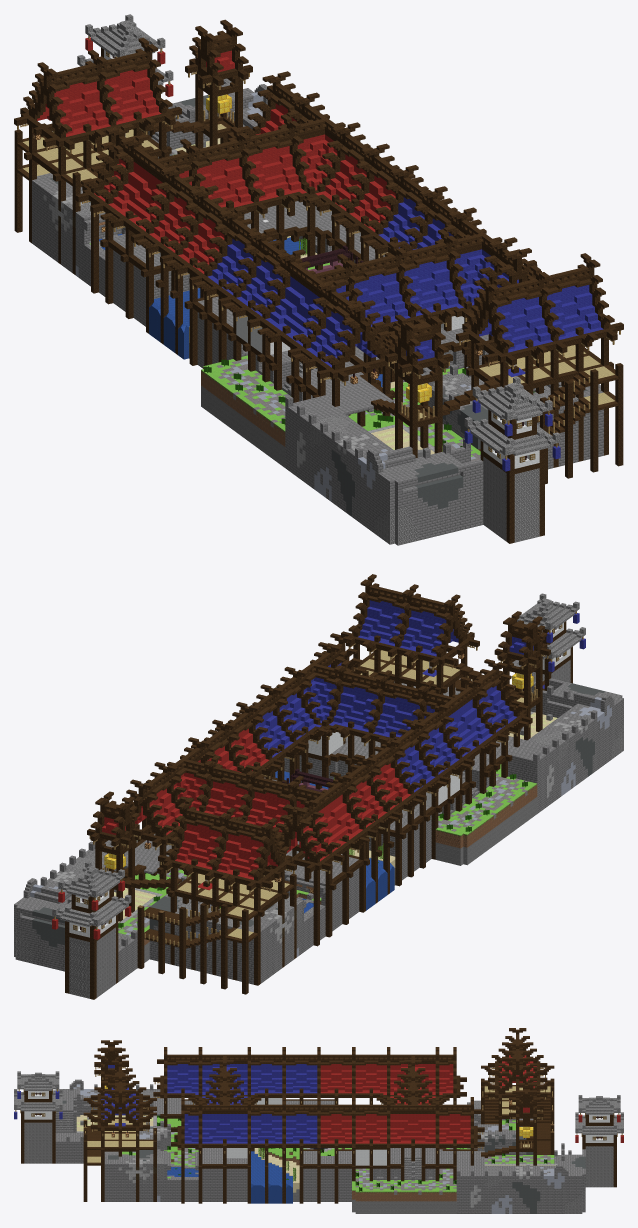
The model's file is minecraft.obj.
3 renders of one model, top to bottom at view 1: azimuth 30°, elevation 25°; view 2: azimuth 150°, elevation 25°; view 3: azimuth 270°, elevation 25°, orthographic. The views are drawn at different scales.
Bounding box in the file's own units: 590 × 350 × 1750.
